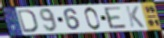0: (84, 7, 101, 31)
6: (63, 8, 82, 31)
9: (39, 8, 59, 33)
D: (16, 9, 39, 34)
E: (103, 6, 129, 30)
K: (124, 5, 146, 28)
